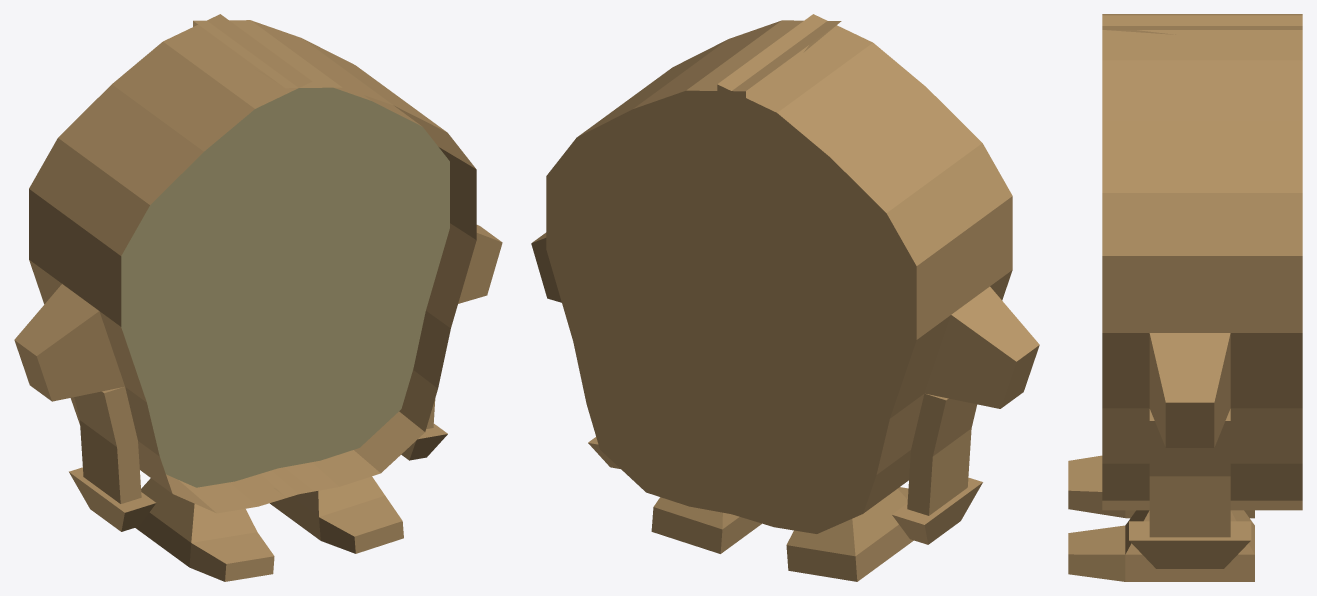
File: Clock1.fbx
3 views of the same model, side by side, from view 1: azimuth 30°, elevation 25°; view 2: azimuth 150°, elevation 25°; view 3: azimuth 270°, elevation 25° (orthographic). The views are drawn at different scales.
Visible parts, largest first — view 1: Cube.017; view 2: Cube.017; view 3: Cube.017.
Boxes of the visible parts, left/top/right/bottom form: Cube.017: left=14, top=14, right=502, bottom=581; Cube.017: left=531, top=14, right=1039, bottom=581; Cube.017: left=1068, top=14, right=1302, bottom=581.
Size of the model in its own units: 0.7698 by 0.7448 by 0.3085.
